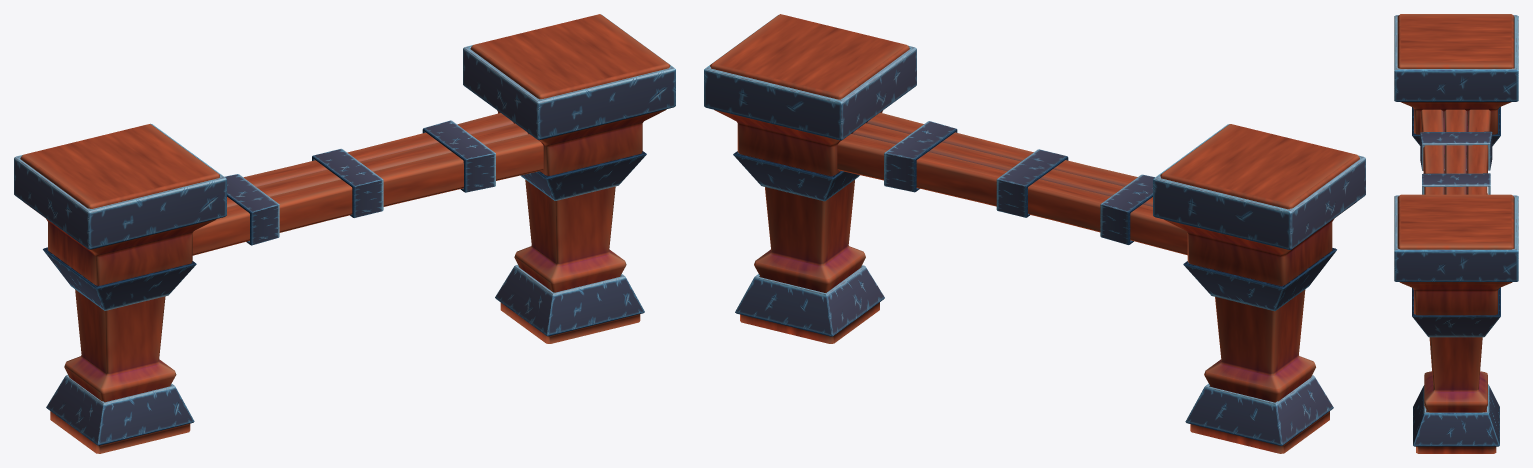
The model's file is barrel_columne_3.fbx.
The picture shows the model from 3 angles, left to right: view 1: azimuth 30°, elevation 25°; view 2: azimuth 150°, elevation 25°; view 3: azimuth 270°, elevation 25°; orthographic projection. The views are drawn at different scales.
Parts seen in each view (by area): view 1: l_leg.015, l_leg.019, l_leg.018, Cube.001, Cube.004, Cube.005, Cube.002, Cube.009, Cube.008, Cube.006, Cube.007, Cube.003; view 2: l_leg.015, l_leg.019, l_leg.018, Cube.001, Cube.004, Cube.005, Cube.002, Cube.009, Cube.008, Cube.006, Cube.007, Cube.003; view 3: l_leg.019, l_leg.015, Cube.004, Cube.001, l_leg.018, Cube.005, Cube.008, Cube.003, Cube.007, Cube.009.
Part boxes in pixels (box(x1,y1,x2,y2)): l_leg.015: box(20, 124, 219, 453); l_leg.019: box(470, 14, 670, 343); l_leg.018: box(192, 113, 543, 255); Cube.001: box(14, 123, 226, 249); Cube.004: box(463, 14, 675, 139); Cube.005: box(495, 265, 644, 336); Cube.002: box(46, 375, 194, 445); Cube.009: box(43, 247, 196, 310); Cube.008: box(520, 151, 646, 200); Cube.006: box(422, 120, 495, 192); Cube.007: box(312, 148, 383, 217); Cube.003: box(224, 174, 279, 245); l_leg.015: box(1160, 124, 1359, 453); l_leg.019: box(710, 14, 909, 343); l_leg.018: box(837, 112, 1187, 255); Cube.001: box(1153, 124, 1365, 249); Cube.004: box(704, 15, 916, 140); Cube.005: box(735, 265, 884, 336); Cube.002: box(1185, 375, 1333, 445); Cube.009: box(1183, 248, 1336, 311); Cube.008: box(733, 151, 859, 201); Cube.006: box(884, 121, 957, 192); Cube.007: box(996, 149, 1068, 217); Cube.003: box(1100, 174, 1154, 244); l_leg.019: box(1397, 194, 1514, 453); l_leg.015: box(1397, 14, 1514, 194); Cube.004: box(1394, 195, 1518, 281); Cube.001: box(1394, 15, 1518, 101); l_leg.018: box(1420, 109, 1491, 194); Cube.005: box(1413, 384, 1499, 446); Cube.008: box(1412, 287, 1500, 337); Cube.003: box(1420, 131, 1492, 170); Cube.007: box(1422, 173, 1490, 194); Cube.009: box(1412, 107, 1500, 155).
Bounding box in the file's own units: 2442 × 1038 × 543.
